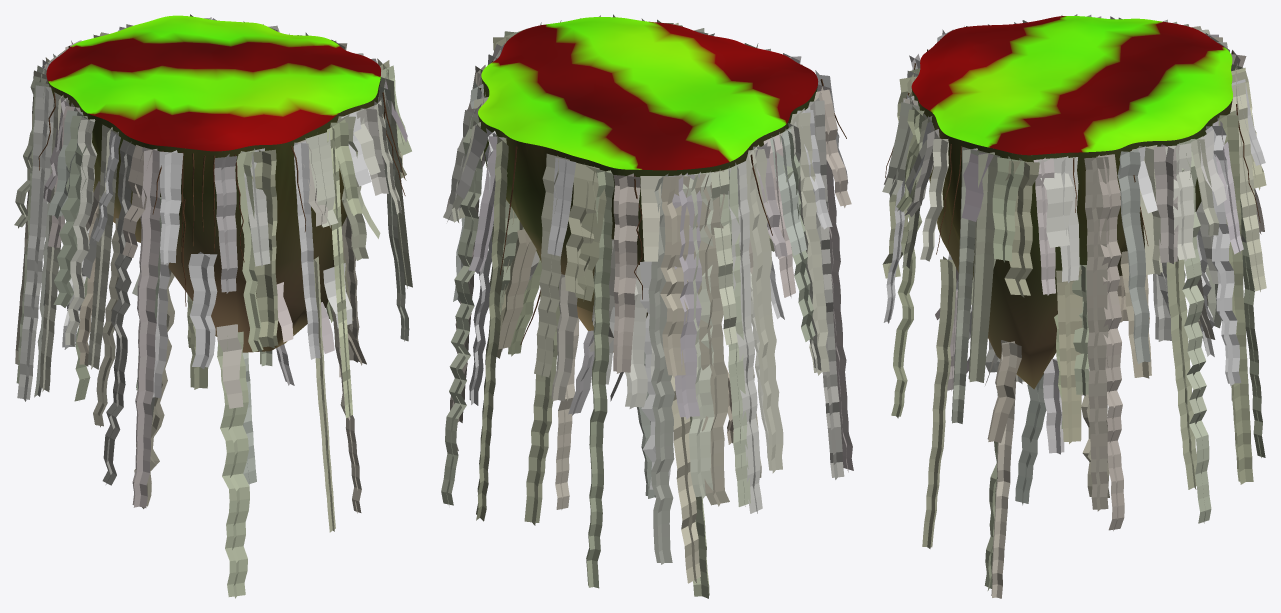
The model's file is SM_H13_Floater02.fbx.
The picture shows the model from 3 angles, left to right: view 1: azimuth 30°, elevation 25°; view 2: azimuth 150°, elevation 25°; view 3: azimuth 270°, elevation 25°; orthographic projection. The views are drawn at different scales.
Visible parts, largest first — view 1: SM_H13_Floater02_Ivy, SM_H13_Floater02; view 2: SM_H13_Floater02_Ivy, SM_H13_Floater02; view 3: SM_H13_Floater02_Ivy, SM_H13_Floater02.
Boxes of the visible parts, box(x1,y1,x2,y2) form: SM_H13_Floater02_Ivy: box(14, 14, 412, 598); SM_H13_Floater02: box(46, 15, 380, 352); SM_H13_Floater02_Ivy: box(441, 14, 853, 598); SM_H13_Floater02: box(478, 17, 818, 352); SM_H13_Floater02_Ivy: box(882, 14, 1266, 598); SM_H13_Floater02: box(911, 16, 1232, 389).
Size of the model in its own units: 27.75 by 39.73 by 26.44.
